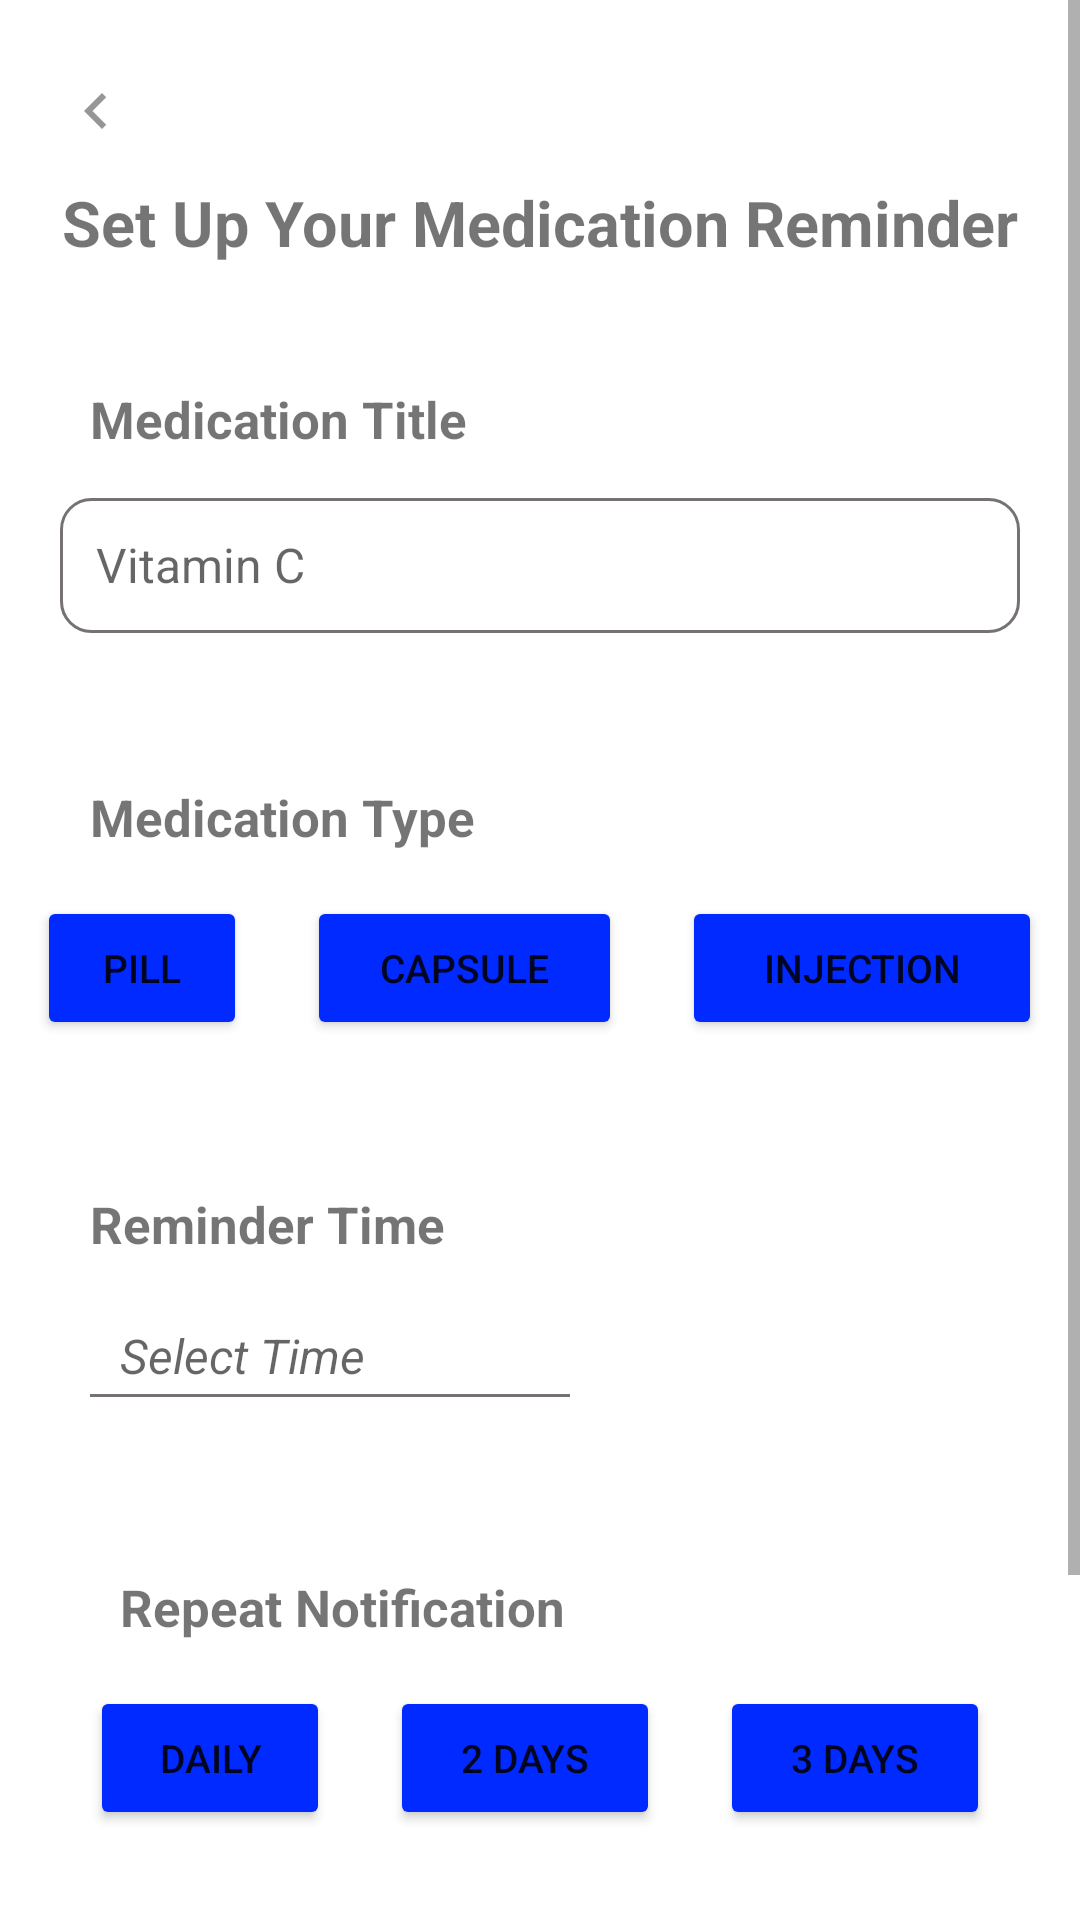

Icons on this 1080×1920 Android screen, each with the point to tap as [x,y]:
back: [95,111]
